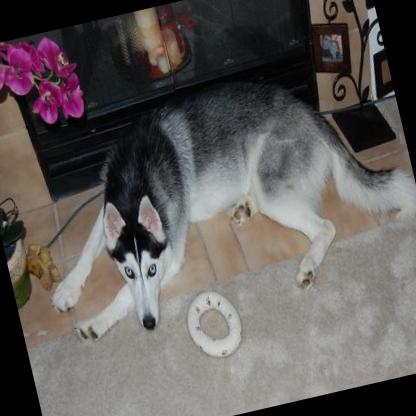Siberian_husky: (12, 47, 416, 350)
